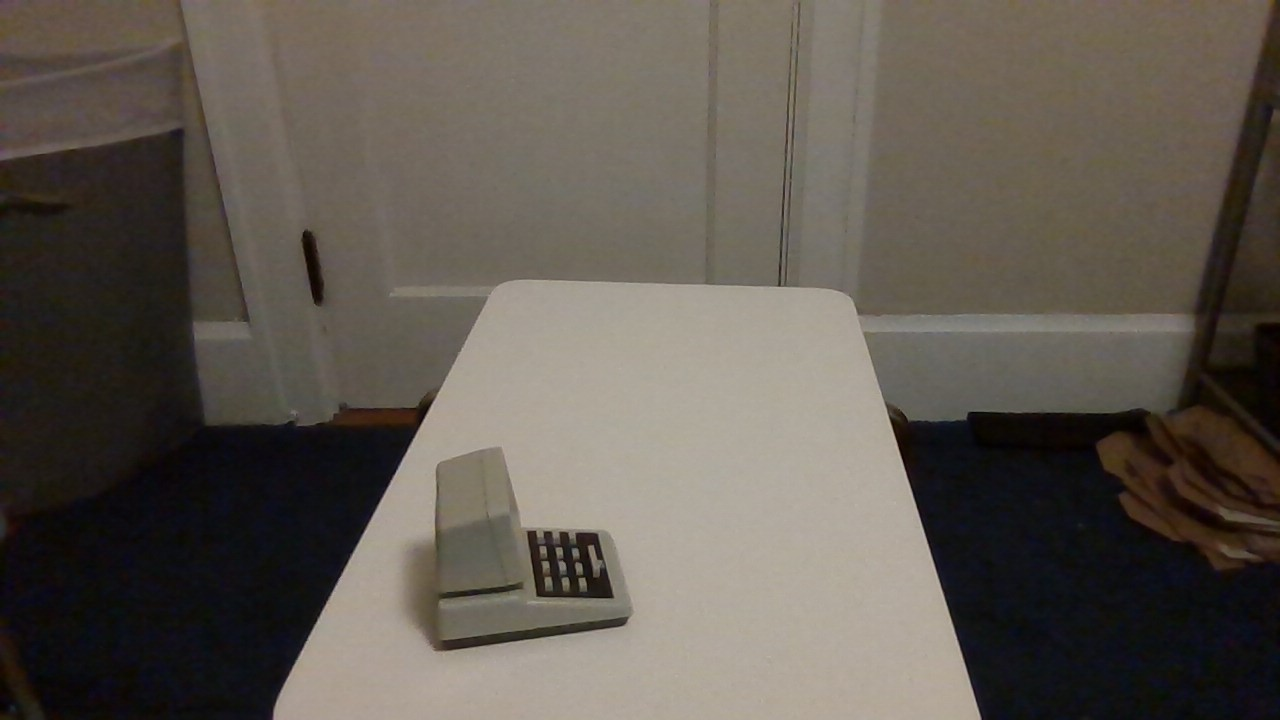Toy: (411, 425, 648, 673)
